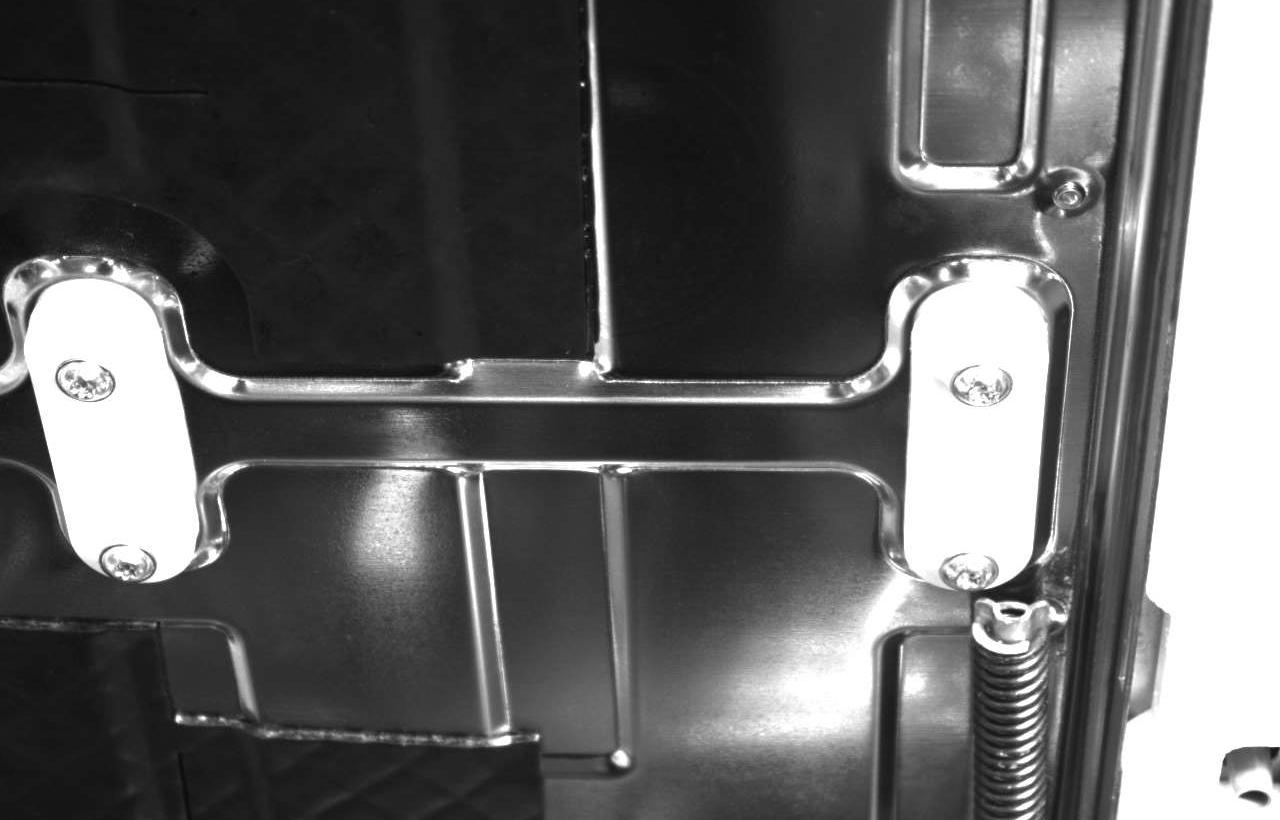vida-ok: (47, 347, 134, 425), (939, 346, 1027, 418), (90, 531, 171, 595), (932, 533, 1007, 592)
